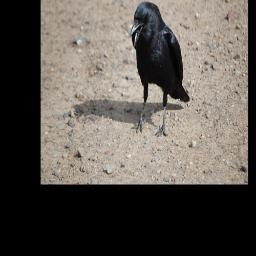Crow: (129, 1, 190, 137)
